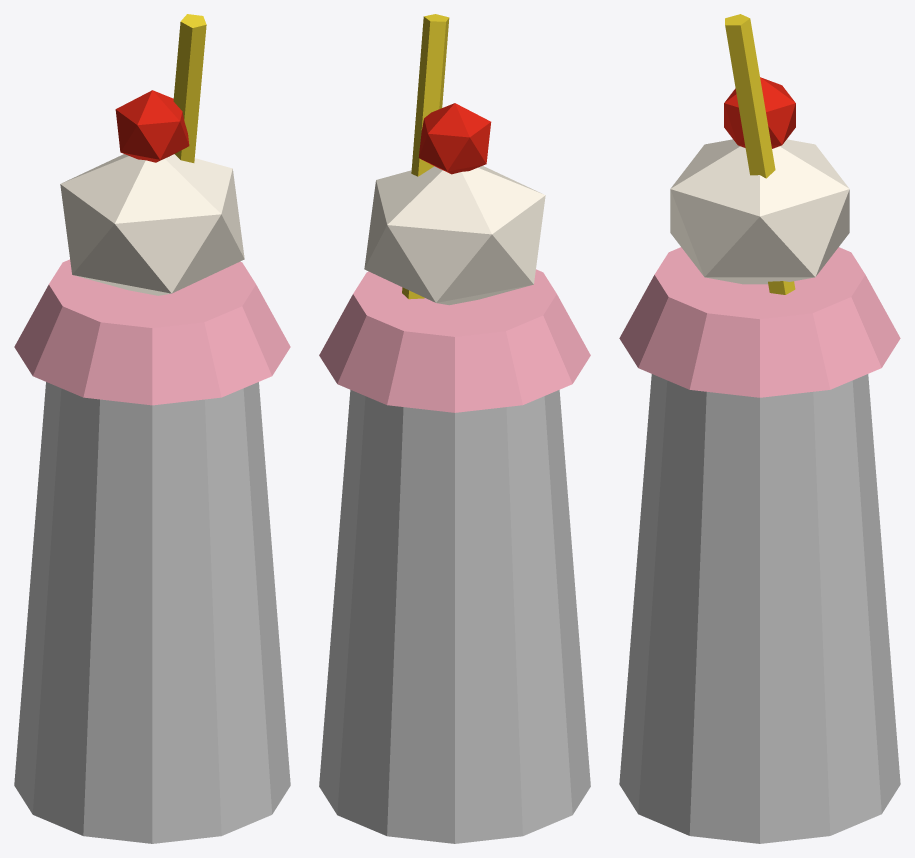
Rendered from milkshake.glb.
3 views of the same model, side by side, from view 1: azimuth 30°, elevation 25°; view 2: azimuth 150°, elevation 25°; view 3: azimuth 270°, elevation 25° (orthographic). The views are drawn at different scales.
Parts seen in each view (by area): view 1: milkshake; view 2: milkshake; view 3: milkshake.
Boxes of the visible parts, bbox=[...] form: milkshake: bbox=[14, 14, 290, 843]; milkshake: bbox=[319, 14, 590, 843]; milkshake: bbox=[619, 14, 900, 843].
Bounding box in the file's own units: 0.08 × 0.2451 × 0.08.
